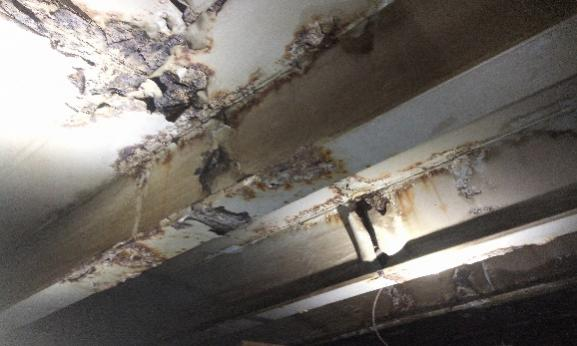corrosion: (0, 0, 260, 129), (279, 15, 384, 71), (245, 150, 351, 193), (98, 124, 188, 174), (467, 123, 570, 160), (172, 200, 255, 238), (450, 157, 487, 222), (190, 148, 243, 192), (364, 190, 417, 233), (106, 243, 164, 274), (285, 205, 343, 231), (408, 160, 449, 185), (60, 263, 100, 288)
